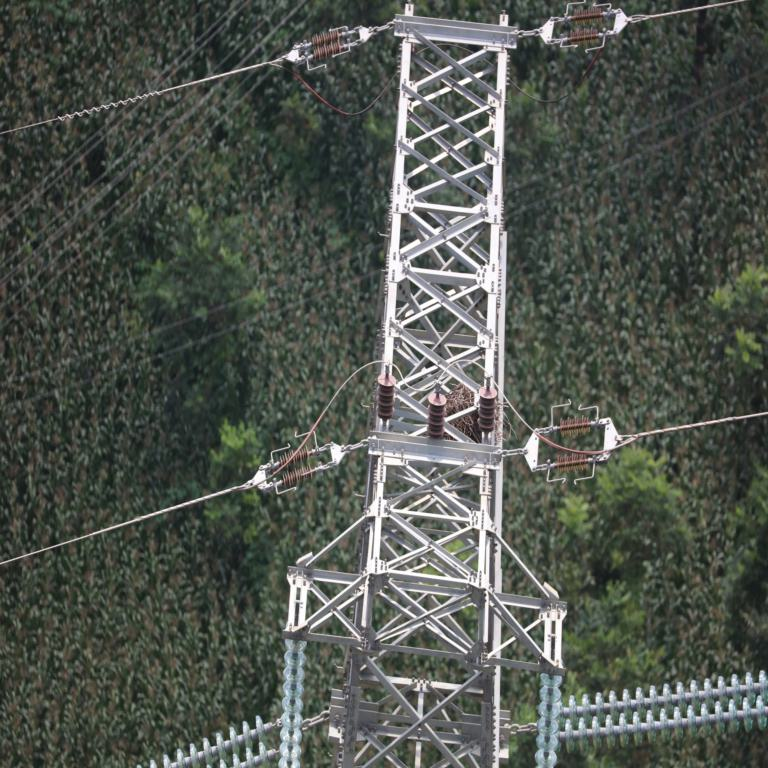nest: (448, 385, 480, 438)
